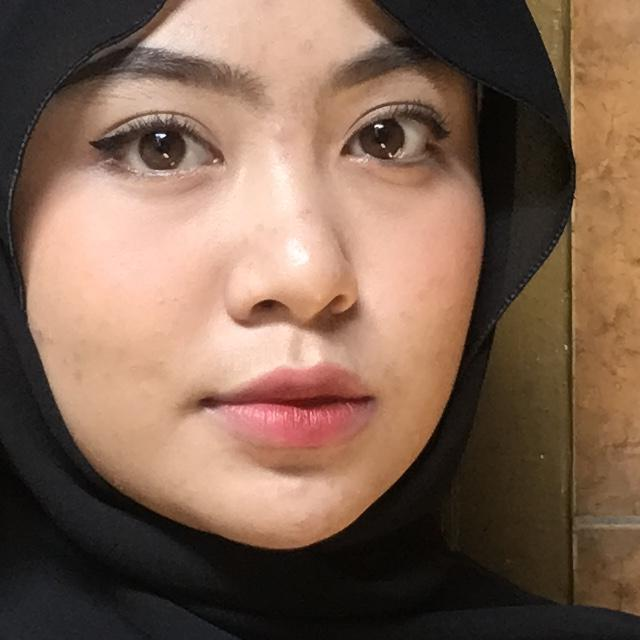ibu: (0, 176, 180, 640)
